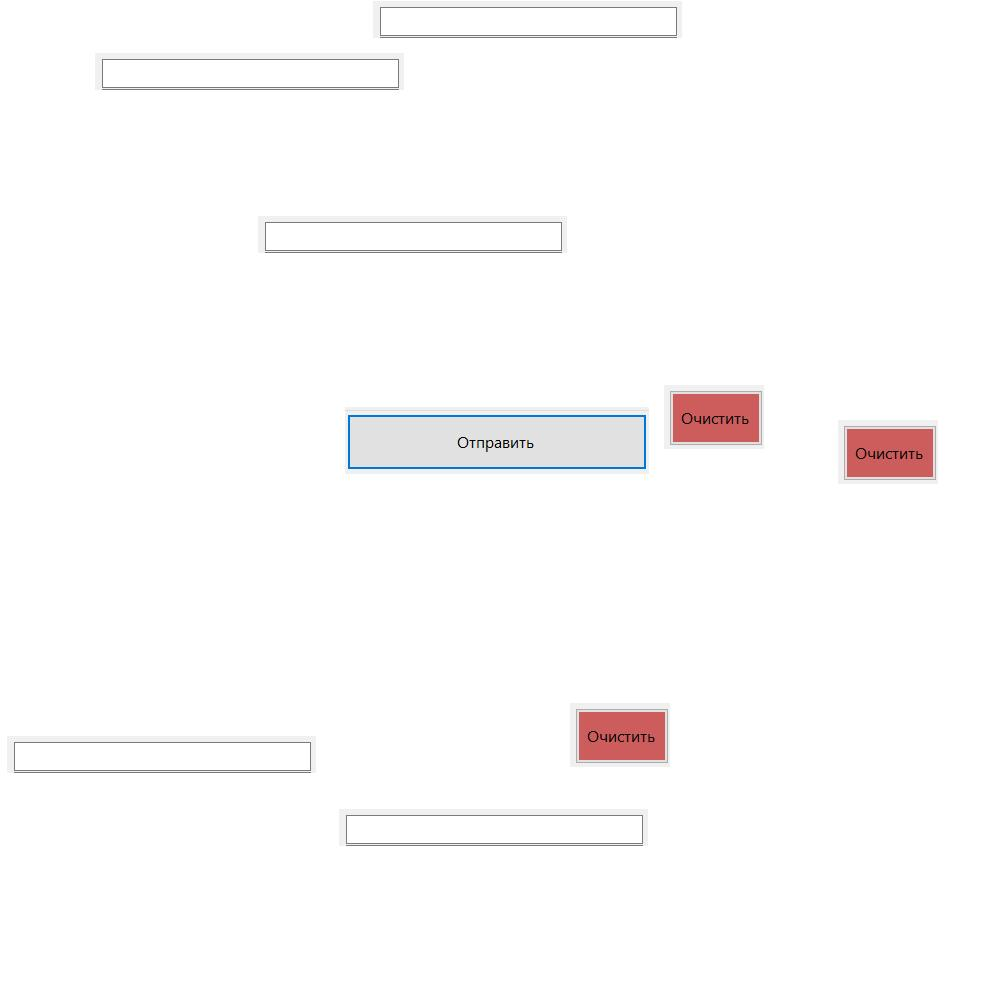Button: (345, 407, 649, 474), (570, 703, 670, 767), (664, 385, 764, 449), (838, 420, 938, 484)
EditText-: (339, 809, 648, 846), (258, 216, 567, 253), (373, 1, 682, 38), (95, 53, 404, 90), (7, 736, 316, 773)
